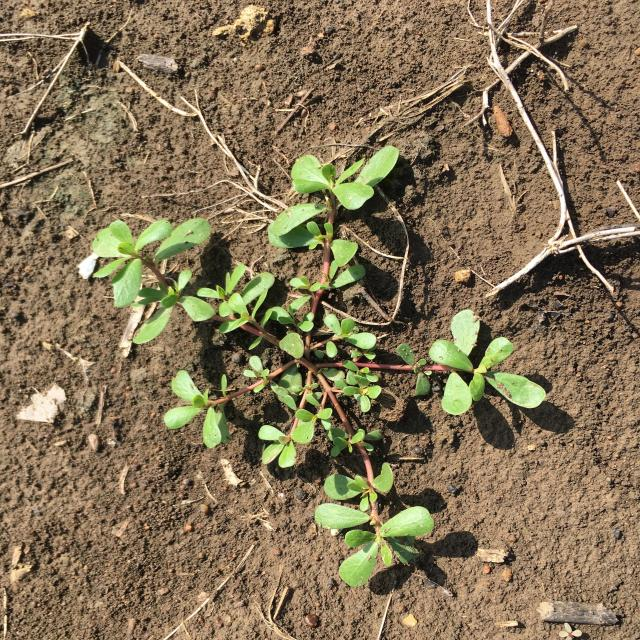Purslane: (92, 145, 547, 588)
